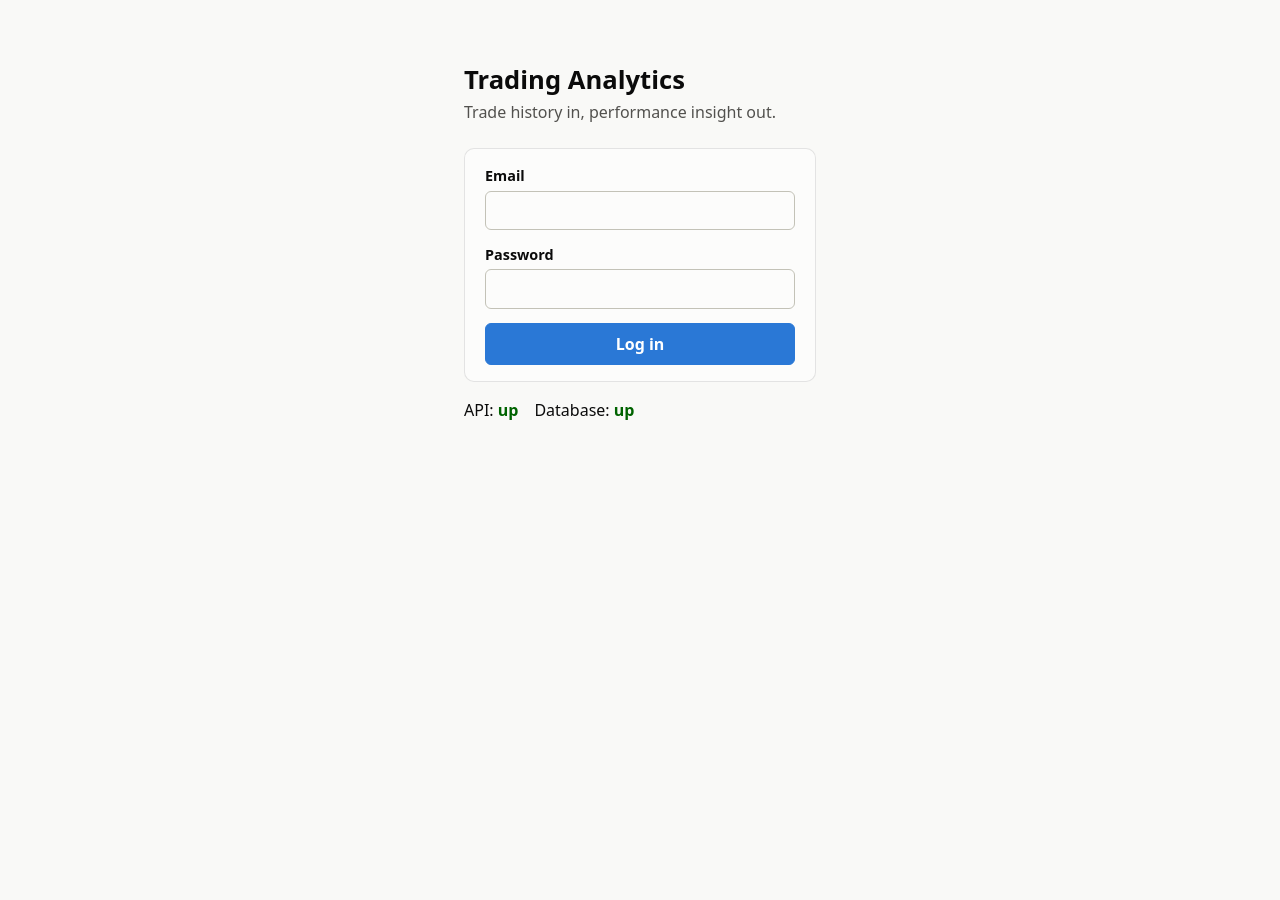
it: logging in › goes back to the page that was asked for after logging in
In the field labelled "Email": [640, 210] box [485,191,795,230], type "trader@example.com"
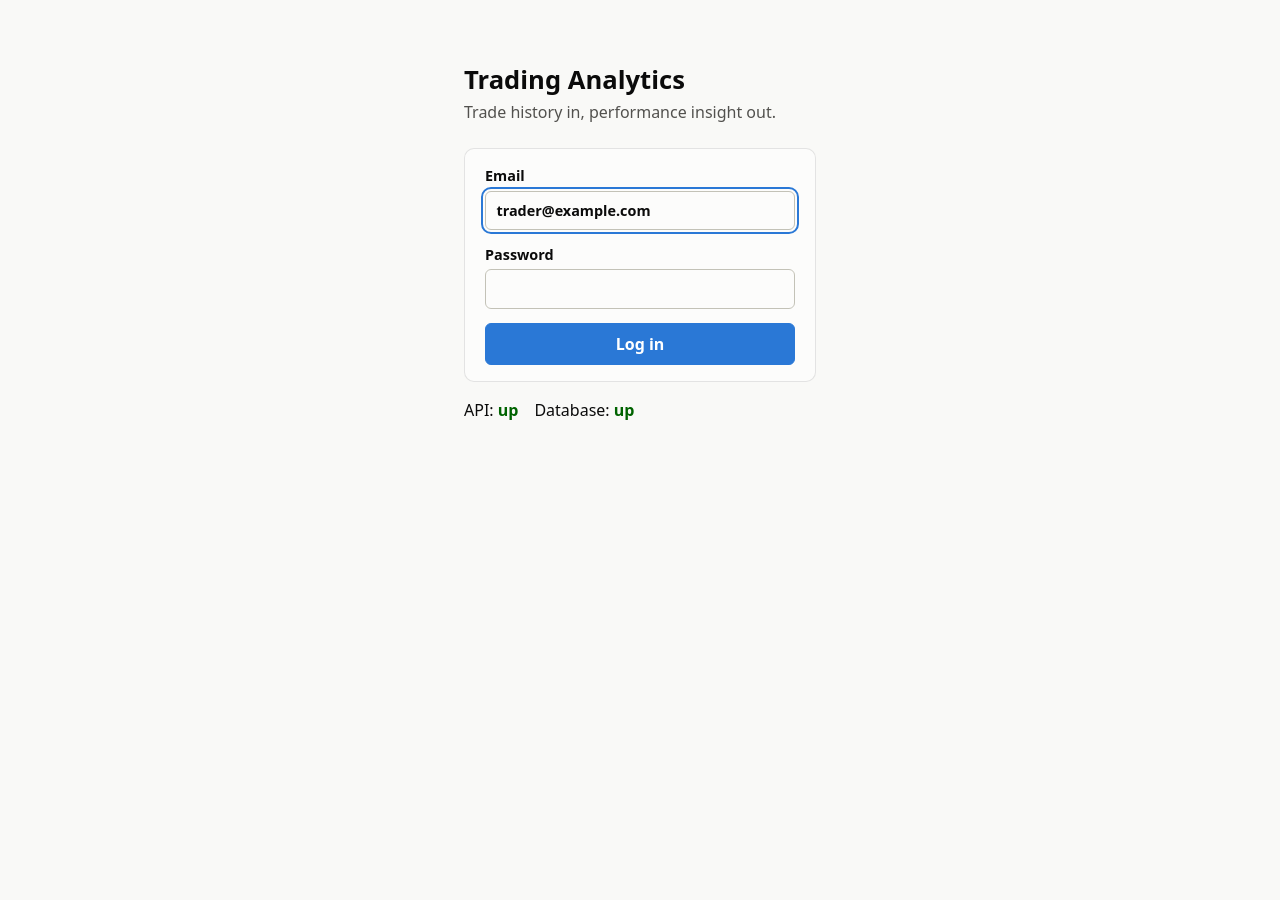
In the password field labelled "Password": [640, 289] box [485,269,795,309], type "correct-horse-battery"
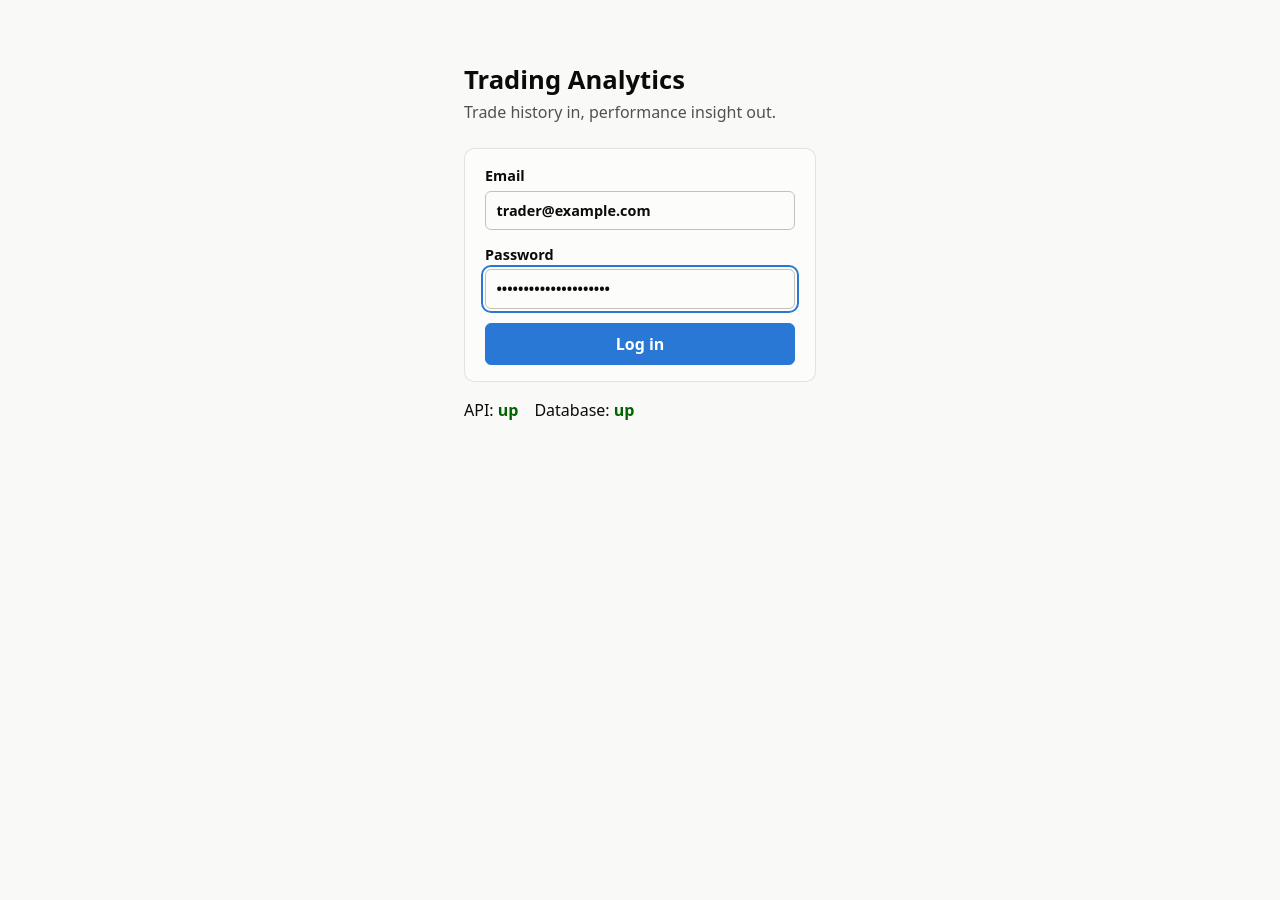
Click the button "Log in": [640, 344] box [485,322,795,364]
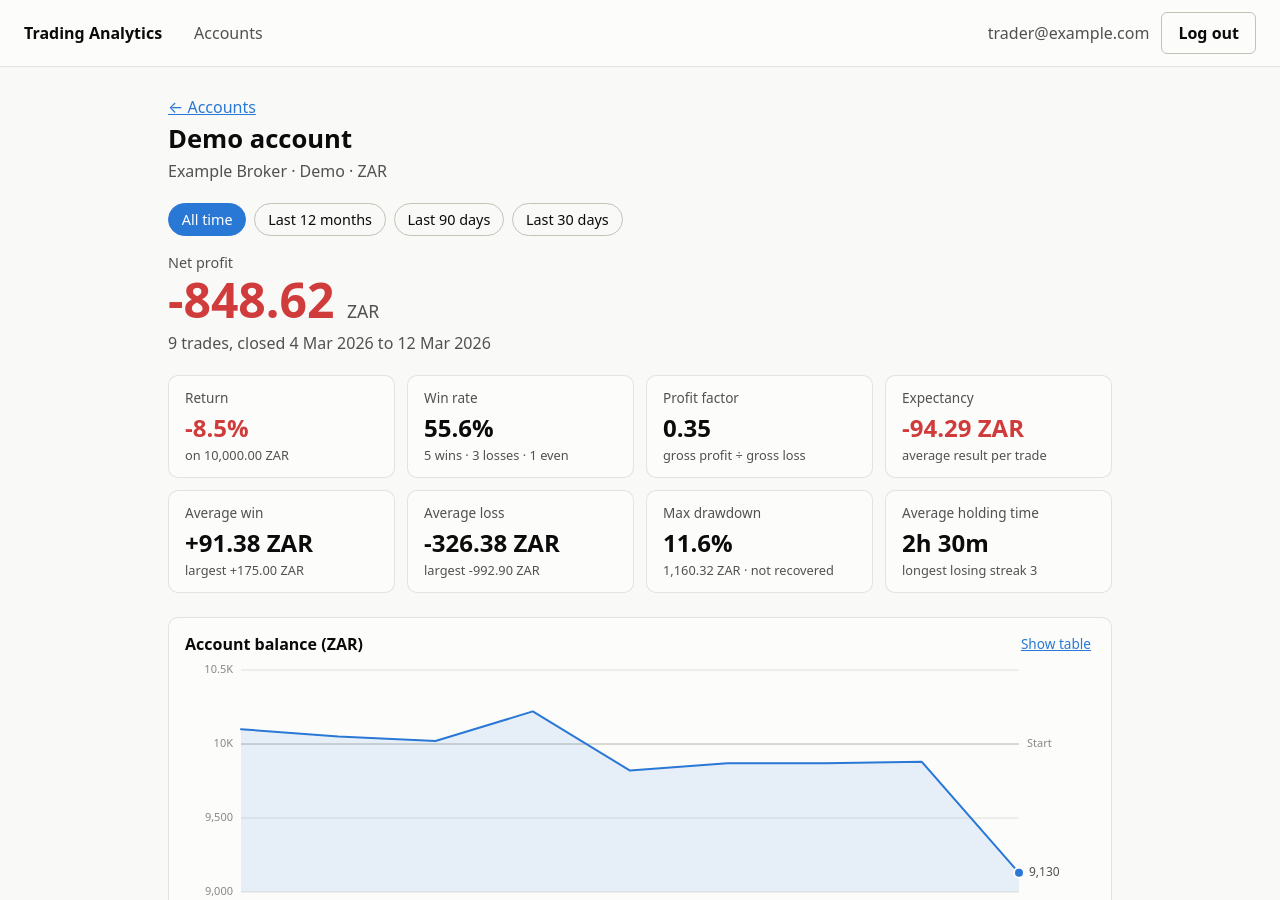
Check: the heading "Demo account" is shown, box [168,121,352,156]
